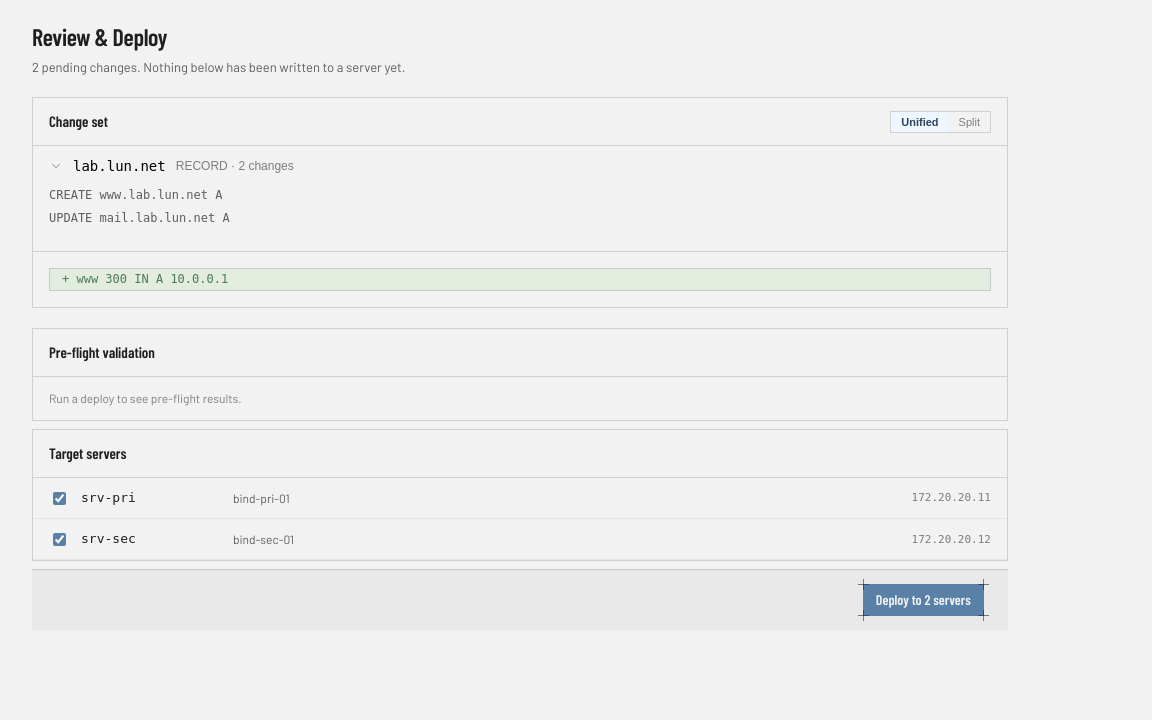
Test case: ReviewDeploy › a mocked SUCCEEDED job renders the result panel with a success row
expect the text "lab.lun.net" is shown: met, box [73,158,166,174]
Click the button "Deploy to 2 servers".
click(923, 600)  # box [863,584,984,616]
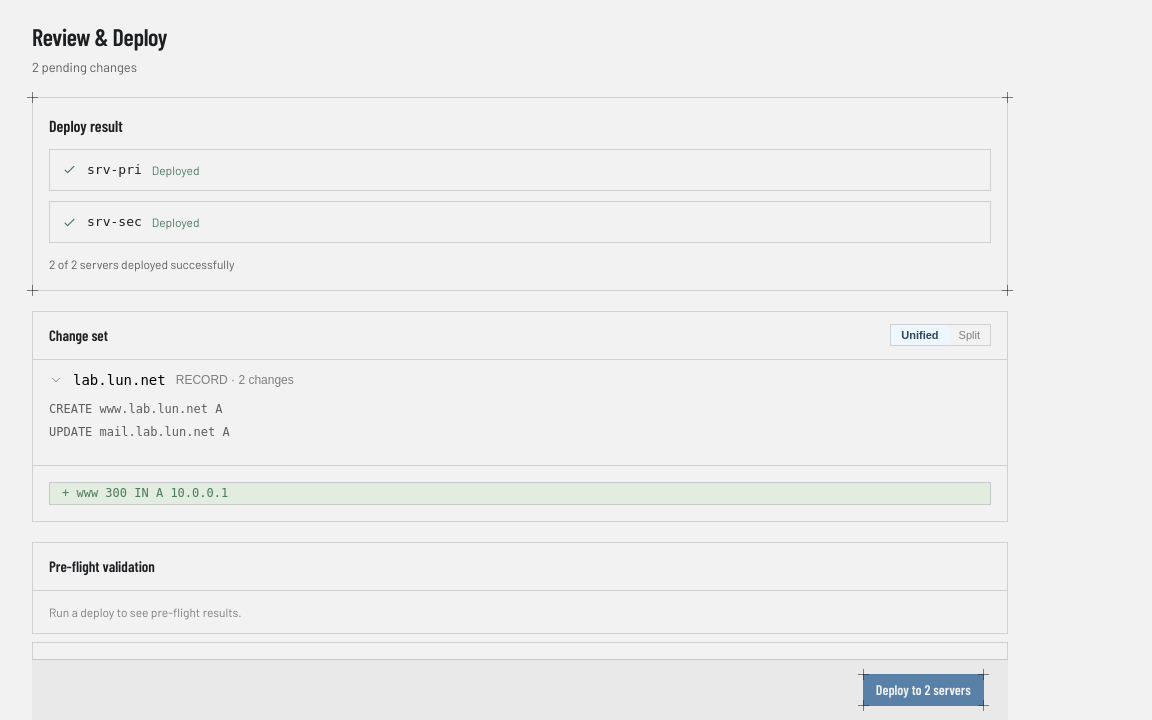
expect the text "Deploy result" is shown: met, box [49,116,123,135]
expect the text "Deployed" is shown 2 times: met, box [152,161,200,179]; [152,213,200,231]
expect the text "2 of 2 servers deployed successfully" is shown: met, box [49,257,234,271]
